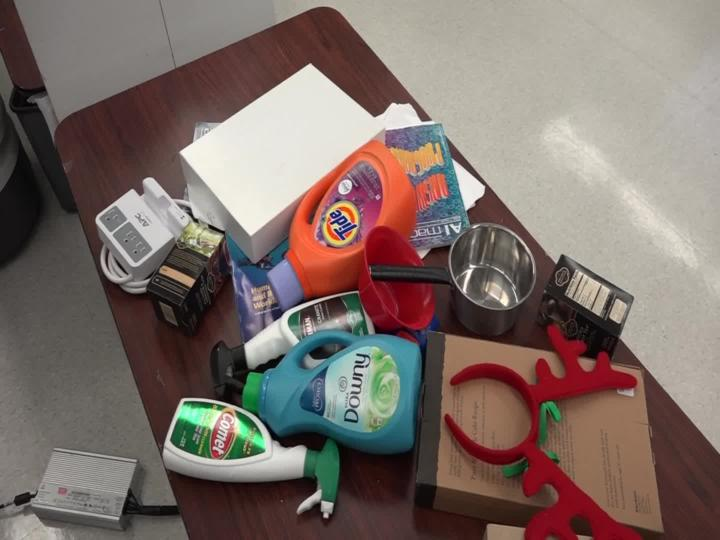tide: (255, 131, 429, 313)
